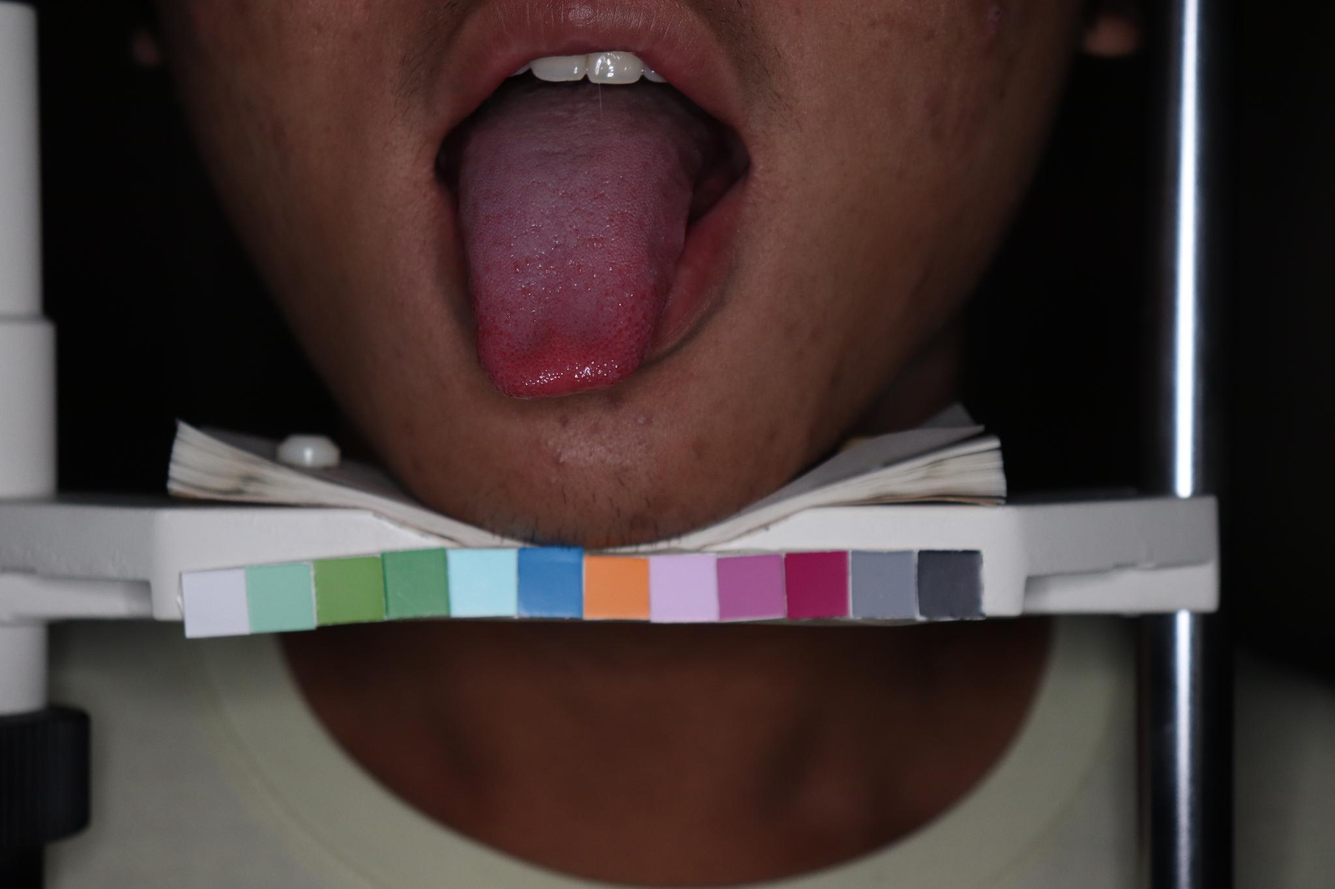baitaishe: (459, 69, 707, 399)
hongdianshe: (637, 291, 647, 301), (503, 316, 511, 325), (626, 316, 634, 324), (508, 350, 514, 357), (525, 331, 531, 338)
hongshe: (459, 69, 707, 399)
